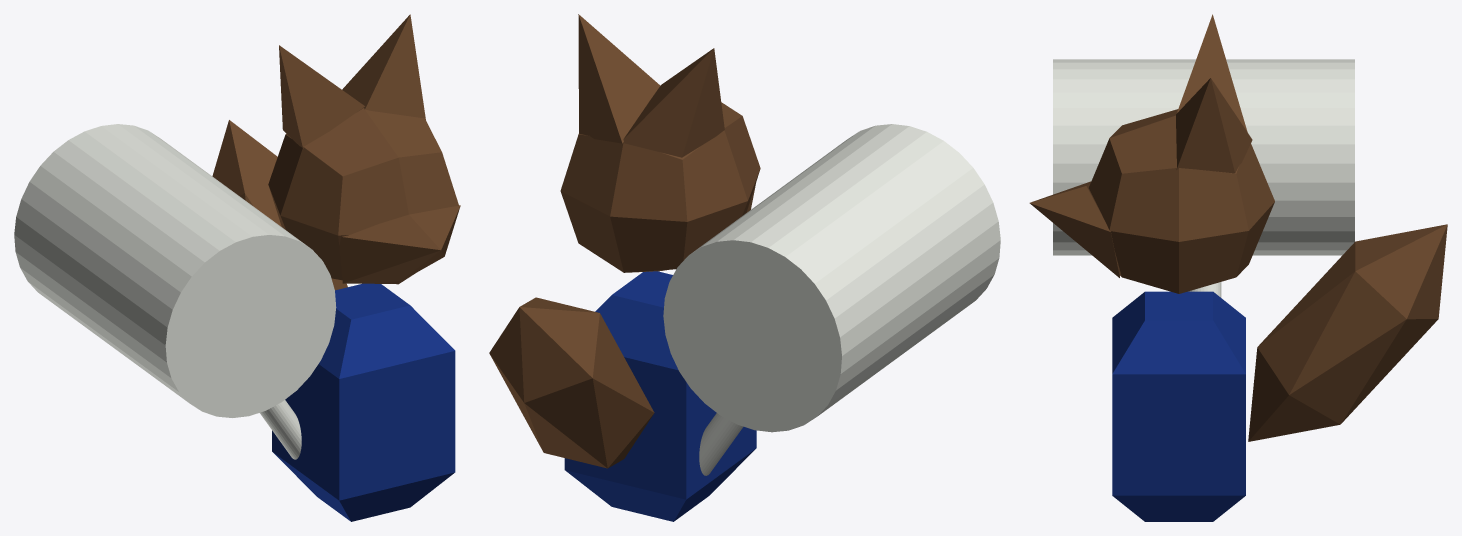
The model's file is Fox_barbarian.fbx.
3 views of the same model, side by side, from view 1: azimuth 30°, elevation 25°; view 2: azimuth 150°, elevation 25°; view 3: azimuth 270°, elevation 25° (orthographic). The views are drawn at different scales.
Visible parts, largest first — view 1: Cylinder.001, Cube, Cube.001, Cone, Cone.001, Cone.002, Icosphere; view 2: Cylinder.001, Cube.001, Icosphere, Cube, Cone.001, Cone.002; view 3: Cylinder.001, Cube, Icosphere, Cube.001, Cone.001, Cone, Cone.002.
Boxes of the visible parts, <box> form: Cylinder.001: <box>14,124,336,459</box>; Cube: <box>272,283,455,521</box>; Cube.001: <box>268,108,458,284</box>; Cone: <box>339,205,460,283</box>; Cone.001: <box>342,14,425,119</box>; Cone.002: <box>279,45,364,148</box>; Icosphere: <box>212,120,347,290</box>; Cylinder.001: <box>663,124,1000,475</box>; Cube.001: <box>560,102,760,272</box>; Icosphere: <box>489,297,654,468</box>; Cube: <box>564,271,756,521</box>; Cone.001: <box>578,14,660,143</box>; Cone.002: <box>623,48,724,157</box>; Cylinder.001: <box>1053,59,1354,297</box>; Cube: <box>1112,291,1245,521</box>; Icosphere: <box>1248,224,1447,441</box>; Cube.001: <box>1089,109,1274,293</box>; Cone.001: <box>1176,78,1252,173</box>; Cone: <box>1029,181,1119,277</box>; Cone.002: <box>1177,14,1247,131</box>.
Bounding box in the file's own units: 594 × 759 × 626.
